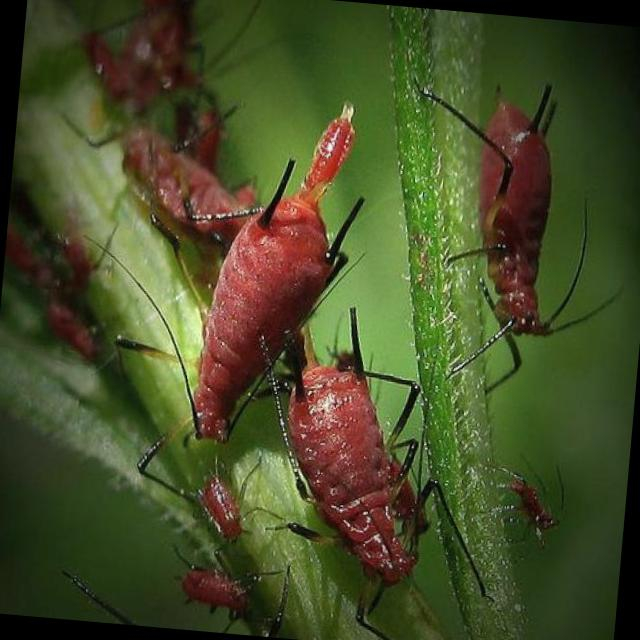aphid: (386, 66, 634, 431), (138, 90, 369, 447), (245, 308, 468, 598)
